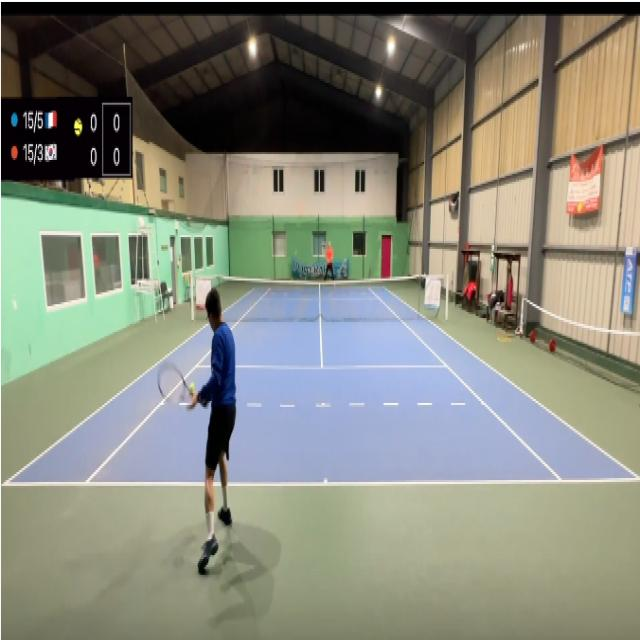ball: (189, 382, 195, 395)
